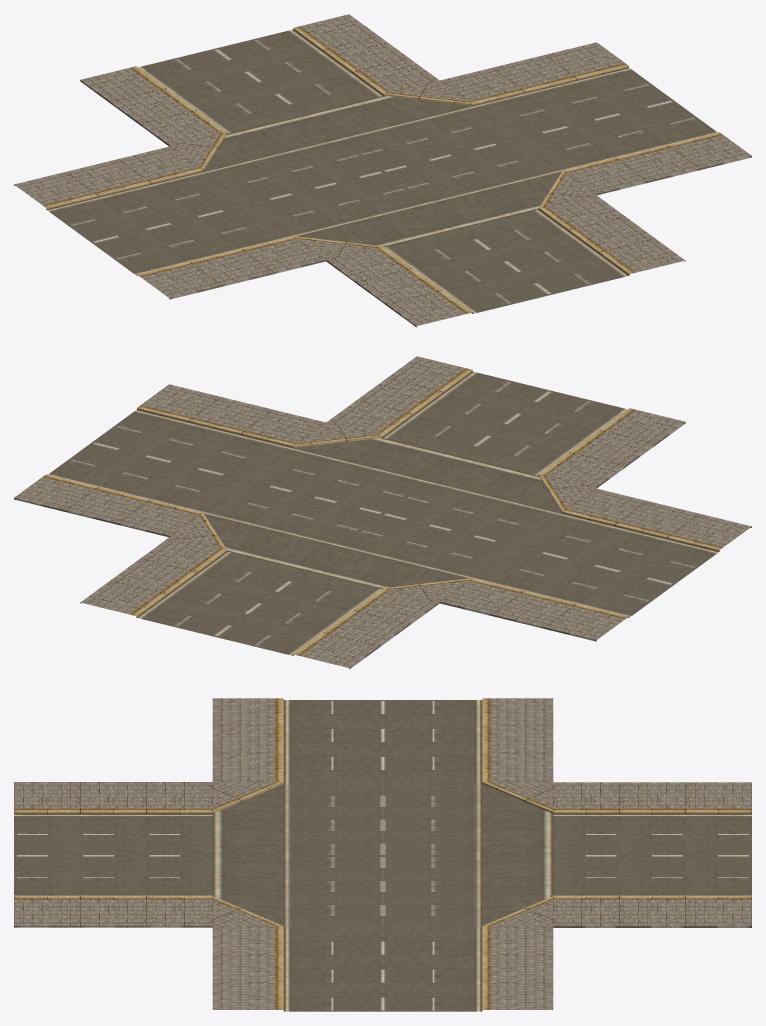
The model's file is Road2_Part_06_A.fbx.
3 views of the same model, one above another, from view 1: azimuth 30°, elevation 25°; view 2: azimuth 150°, elevation 25°; view 3: azimuth 270°, elevation 25° (orthographic). The views are drawn at different scales.
Parts seen in each view (by area): view 1: Road_Part_11; view 2: Road_Part_11; view 3: Road_Part_11.
Part boxes in pixels (box(x1,y1,x2,y2)): Road_Part_11: box(14, 14, 751, 327); Road_Part_11: box(14, 356, 751, 669); Road_Part_11: box(14, 698, 751, 1011).
Bounding box in the file's own units: 2047 × 5.4 × 2047.
